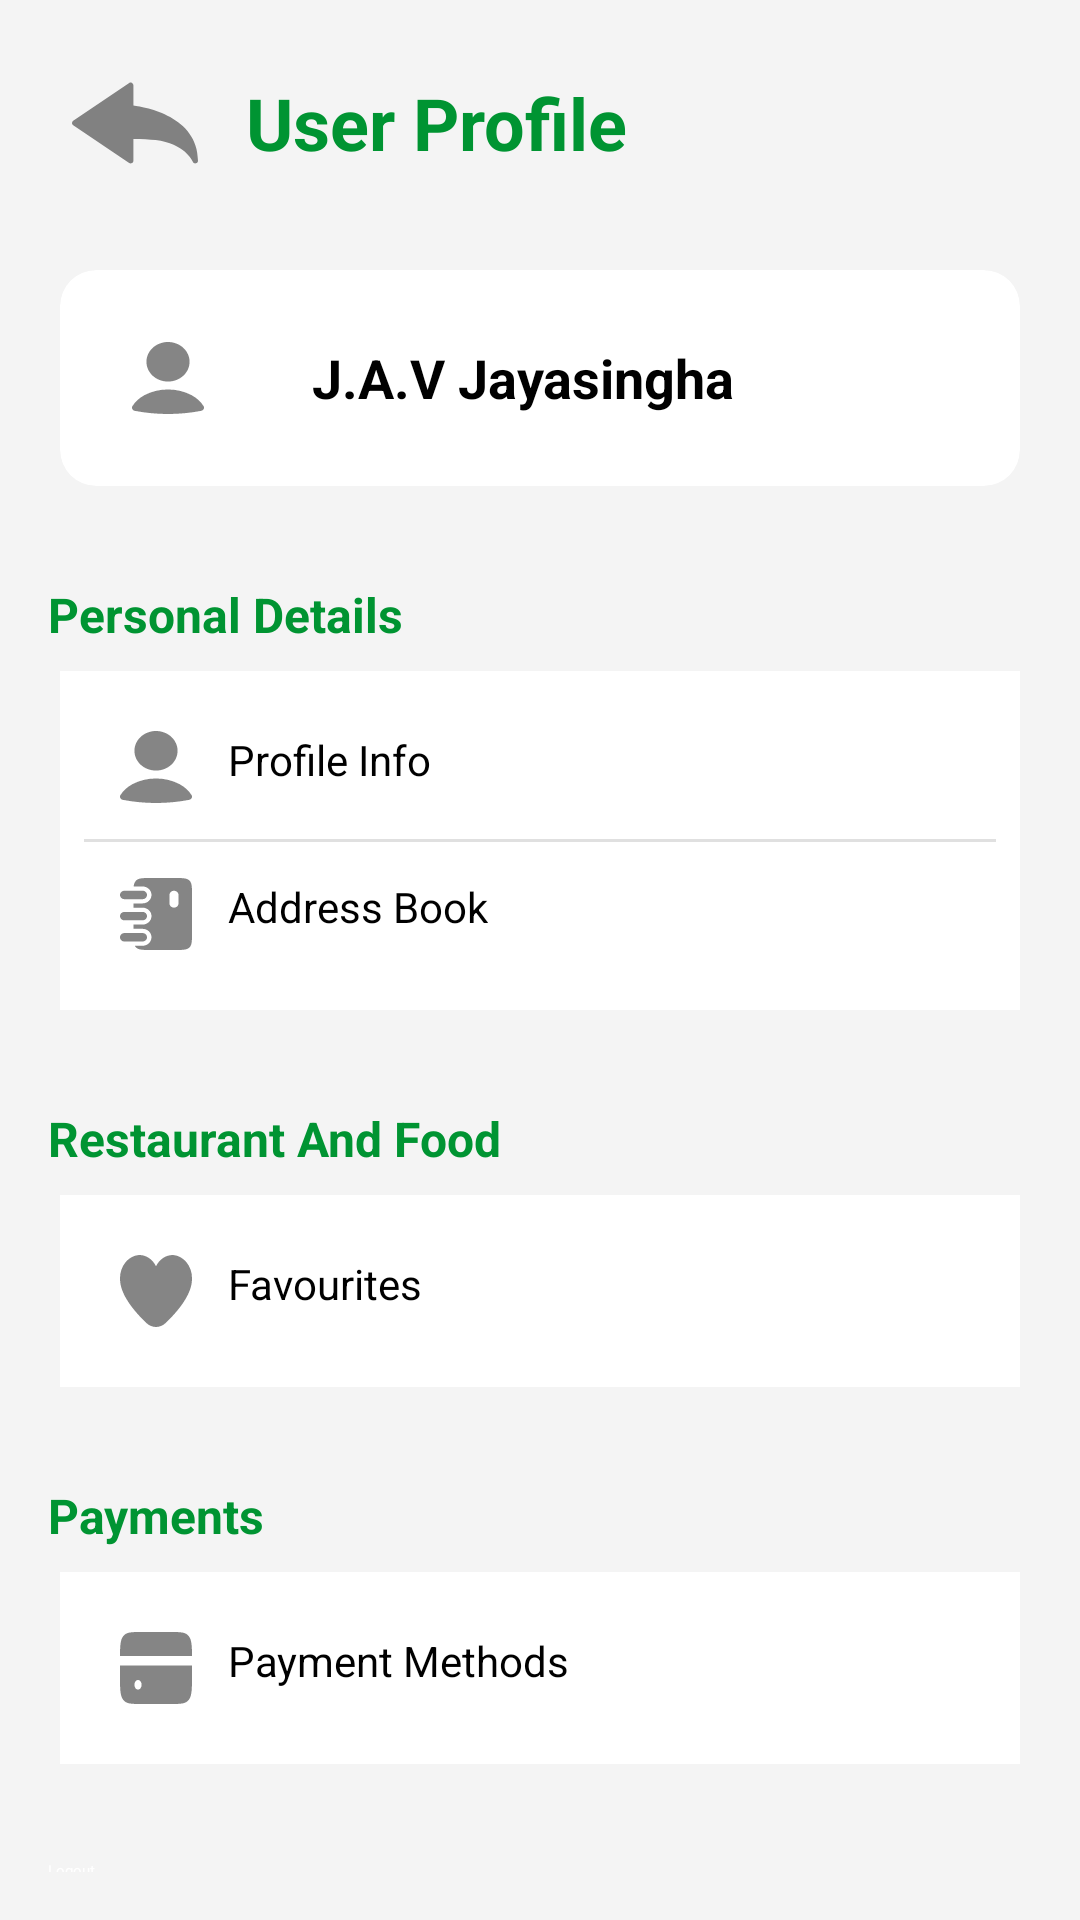

Point at icon controls on the screen. Image size 1080 × 1920, points as (x=x, y=y).
Back: (x=135, y=123)
fav: (x=156, y=1291)
pay: (x=156, y=1668)
